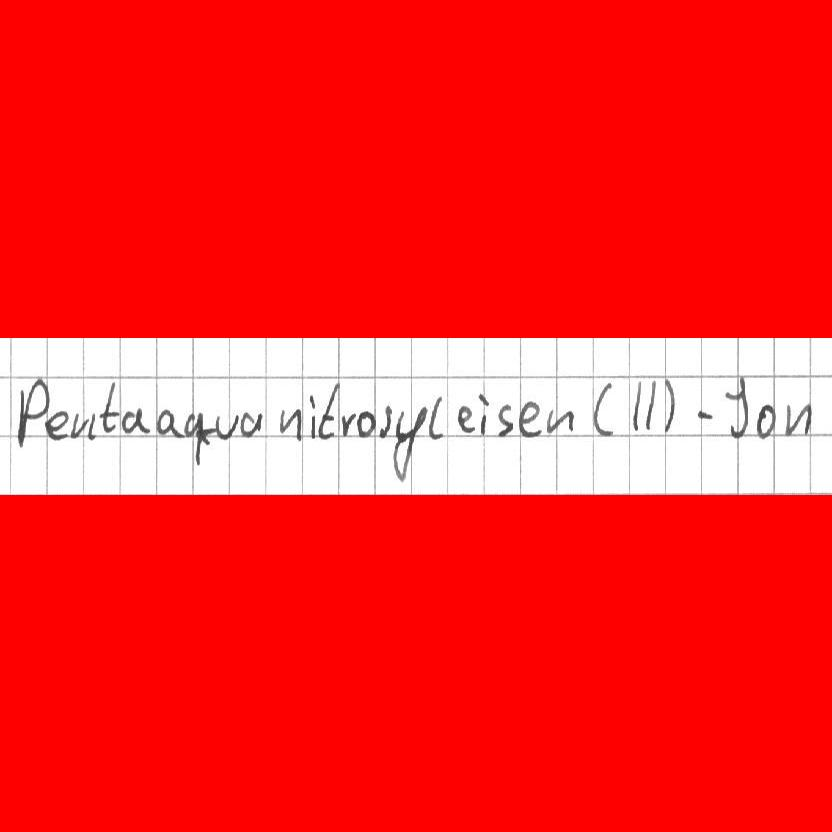Char: (392, 406, 424, 482), (16, 378, 44, 450), (723, 374, 750, 437), (591, 379, 615, 439), (318, 380, 340, 441), (632, 378, 654, 434), (187, 410, 209, 466), (99, 381, 119, 436), (782, 400, 809, 438), (545, 406, 577, 436), (659, 378, 676, 433), (517, 400, 540, 438), (426, 394, 445, 440), (278, 405, 302, 440), (71, 406, 95, 441), (121, 407, 148, 437), (754, 402, 775, 439), (44, 408, 67, 440), (213, 411, 237, 440), (156, 406, 178, 437), (239, 410, 262, 438), (496, 403, 515, 436), (455, 403, 474, 435), (477, 391, 491, 434), (378, 404, 392, 439), (358, 409, 374, 438), (307, 396, 317, 438), (342, 408, 356, 437), (694, 405, 715, 424)
